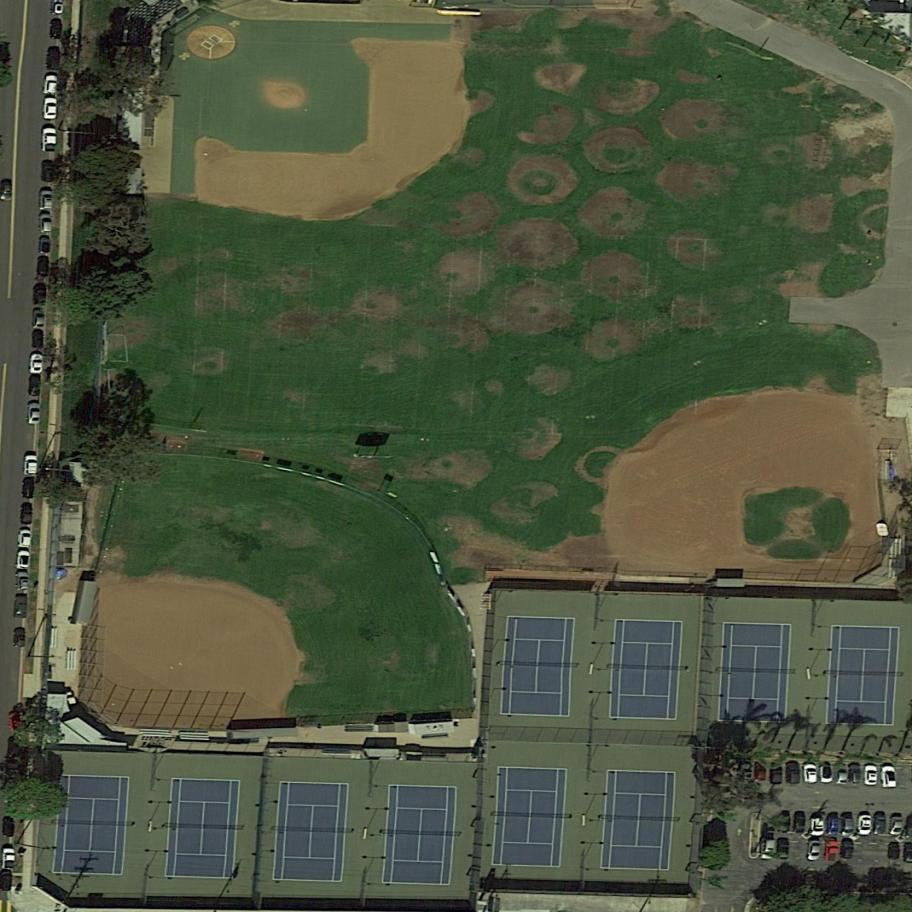small-vehicle: (26, 373, 44, 399), (13, 594, 30, 621), (34, 256, 52, 280), (20, 475, 37, 500), (45, 47, 62, 72), (822, 840, 841, 861), (32, 284, 49, 307), (48, 18, 65, 41), (43, 73, 59, 97), (37, 235, 54, 257), (810, 814, 826, 837), (881, 765, 897, 788), (785, 762, 801, 785), (2, 816, 18, 839), (40, 160, 56, 183), (27, 401, 42, 425), (887, 815, 904, 836), (31, 329, 48, 350), (17, 527, 33, 549), (28, 352, 44, 374), (38, 189, 54, 211), (43, 128, 57, 152), (793, 814, 809, 835), (807, 840, 822, 862), (15, 570, 30, 592), (760, 839, 775, 861), (24, 454, 38, 477), (775, 840, 791, 860), (840, 817, 855, 838), (857, 815, 872, 836), (16, 549, 31, 570), (864, 765, 879, 786), (2, 849, 16, 871), (20, 504, 34, 526), (818, 765, 834, 784), (839, 840, 855, 859), (44, 97, 57, 120), (754, 761, 768, 782), (887, 841, 901, 862), (834, 766, 849, 785), (32, 310, 46, 330), (803, 764, 817, 784), (849, 764, 862, 785), (769, 764, 782, 785), (39, 214, 53, 233), (827, 817, 841, 836), (740, 762, 753, 782), (873, 816, 886, 836), (777, 815, 791, 833), (15, 630, 26, 648)
